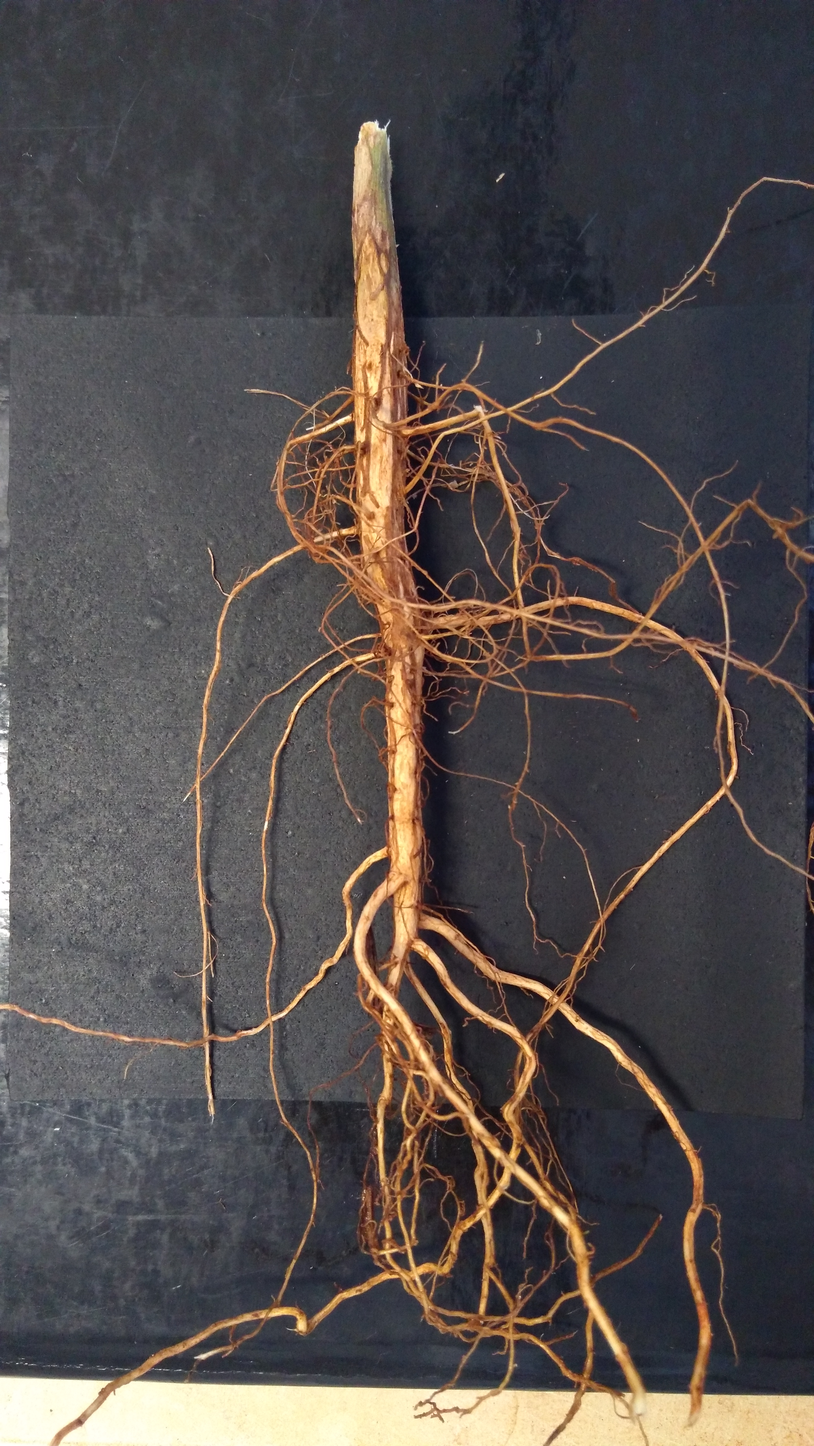nodule: (417, 597, 434, 619), (375, 641, 391, 657), (352, 554, 366, 571), (467, 1319, 483, 1333), (354, 442, 365, 455), (388, 1210, 398, 1222), (448, 480, 458, 490), (405, 345, 410, 357), (405, 468, 410, 473), (331, 499, 336, 504)
